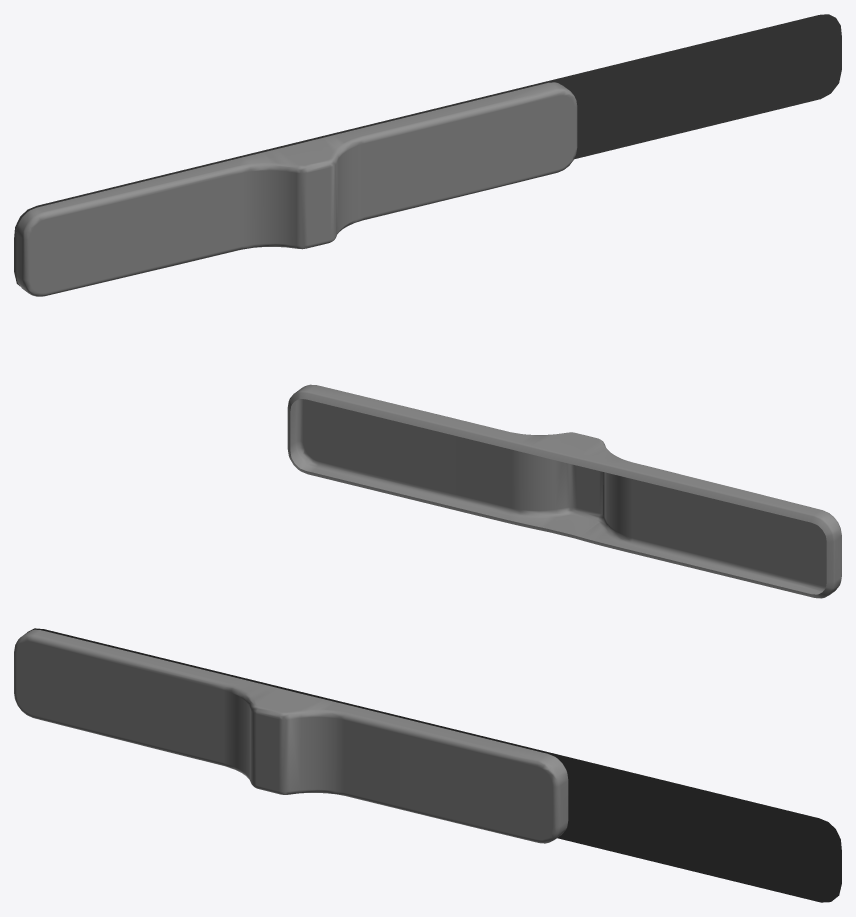
Rendered from toggle_switch.fbx.
3 renders of one model, top to bottom at view 1: azimuth 30°, elevation 25°; view 2: azimuth 150°, elevation 25°; view 3: azimuth 330°, elevation 25°, orthographic.
Parts seen in each view (by area): view 1: mode_switch1, sitch_background; view 2: mode_switch1; view 3: mode_switch1, sitch_background.
Part boxes in pixels (<box>): mode_switch1: <box>16,82,577,296</box>; sitch_background: <box>14,14,841,285</box>; mode_switch1: <box>287,384,841,598</box>; mode_switch1: <box>14,629,568,843</box>; sitch_background: <box>27,628,841,902</box>.
Size of the model in its own units: 11.99 by 1.17 by 0.7446.
